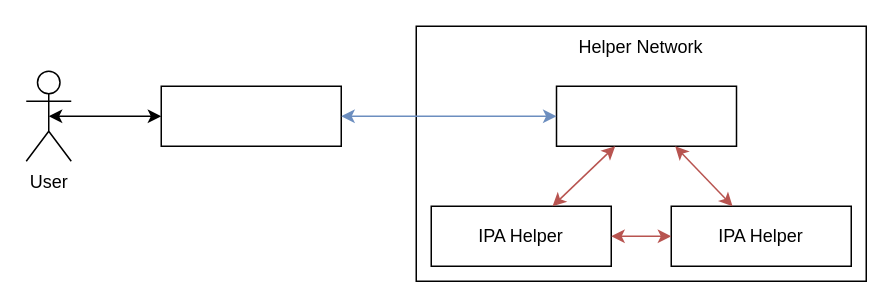
This 893x308 diagram has some shape labels left out. The centre of each missing label's shape, as x and y in pixels:
"IPA Helper (Leader)" goes at [645,115].
"Management" goes at [250,115].
